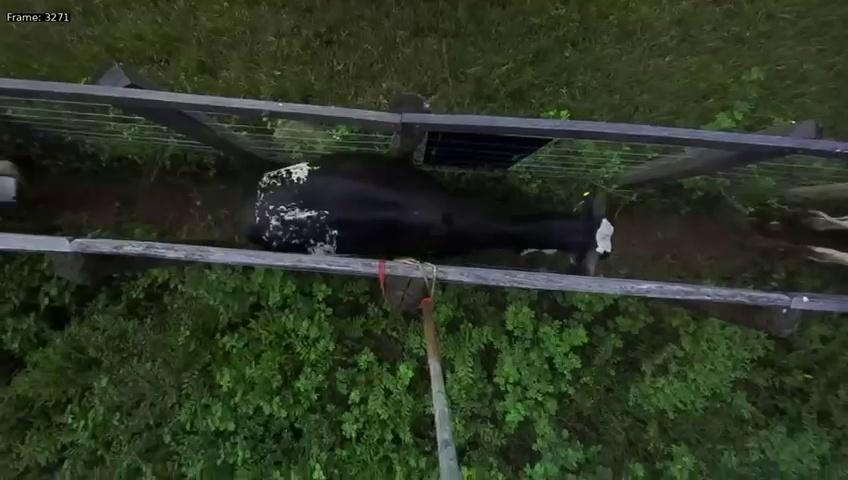cattle: (233, 139, 617, 280)
